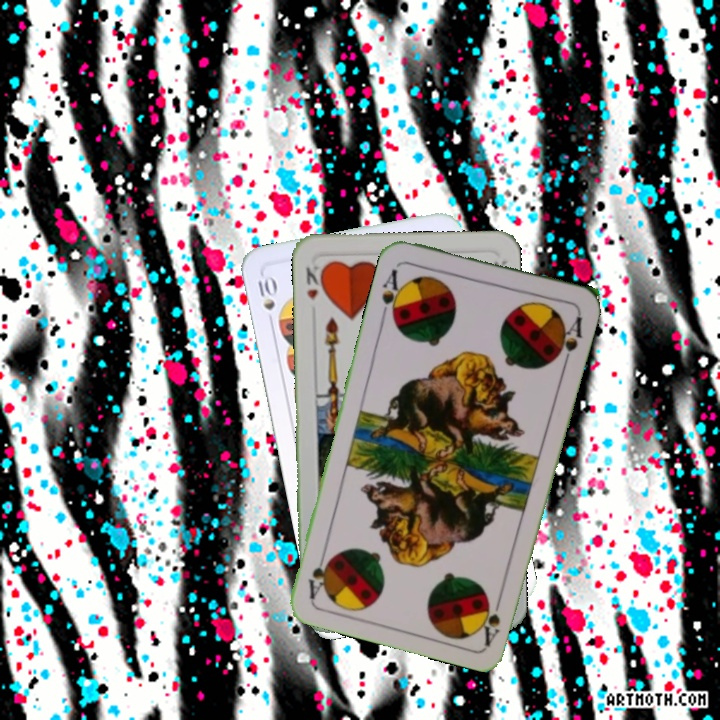HK: (301, 258, 327, 303)
S10: (253, 271, 279, 329)
SA: (378, 265, 407, 321), (479, 588, 506, 647)
